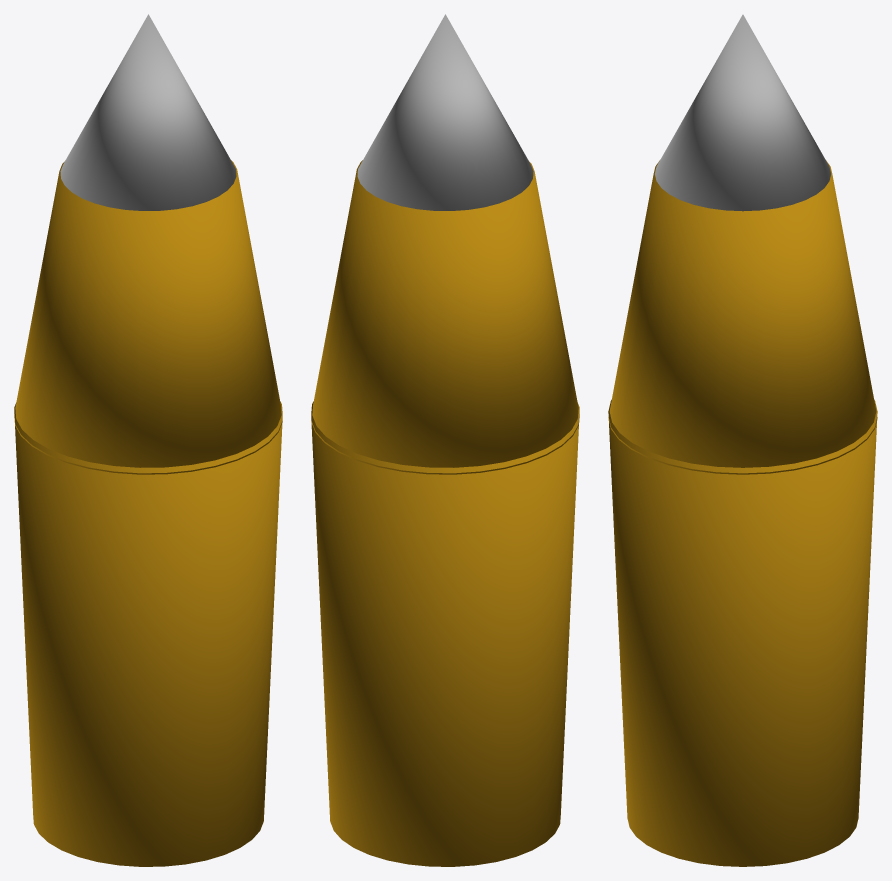
Rendered from projectile.glb.
3 views of the same model, side by side, from view 1: azimuth 30°, elevation 25°; view 2: azimuth 150°, elevation 25°; view 3: azimuth 270°, elevation 25° (orthographic).
Parts seen in each view (by area): view 1: Cylinder.001, Cylinder, Cone; view 2: Cylinder.001, Cylinder, Cone; view 3: Cylinder.001, Cylinder, Cone.
Part boxes in pixels (box(x1,y1,x2,y2)): Cylinder.001: box(14, 401, 282, 866); Cylinder: box(14, 160, 282, 474); Cone: box(60, 14, 236, 210); Cylinder.001: box(311, 401, 579, 866); Cylinder: box(311, 160, 579, 474); Cone: box(357, 14, 533, 210); Cylinder.001: box(608, 400, 877, 866); Cylinder: box(608, 160, 877, 474); Cone: box(655, 14, 830, 211).
Size of the model in its own units: 0.15 by 0.4944 by 0.15.
